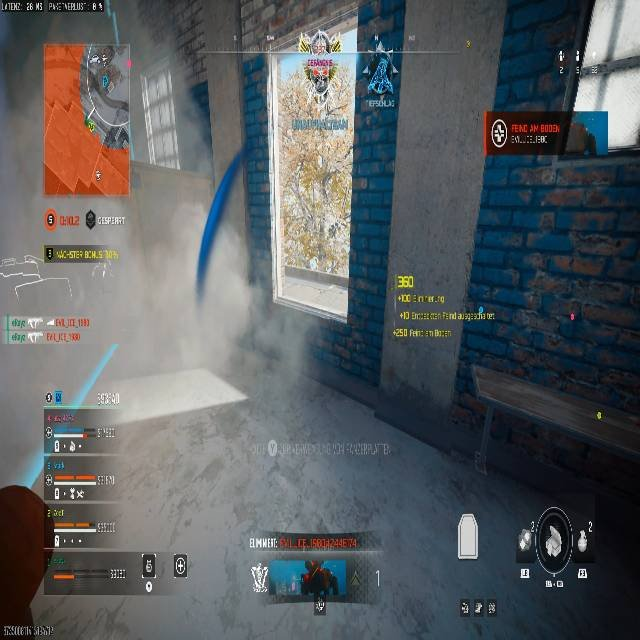player: (304, 559, 334, 614)
